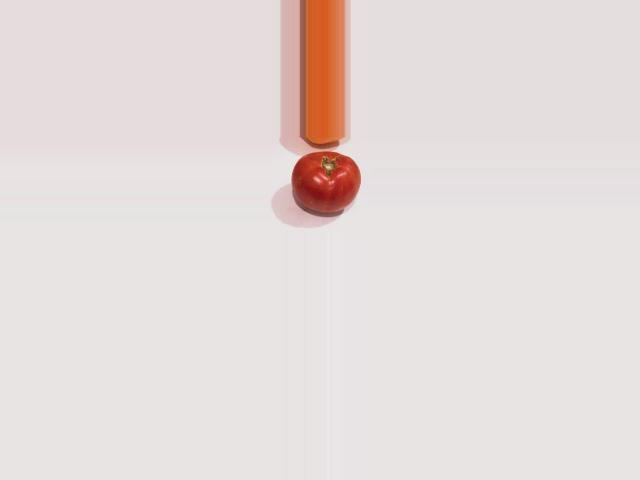tomato: (292, 152, 361, 212)
